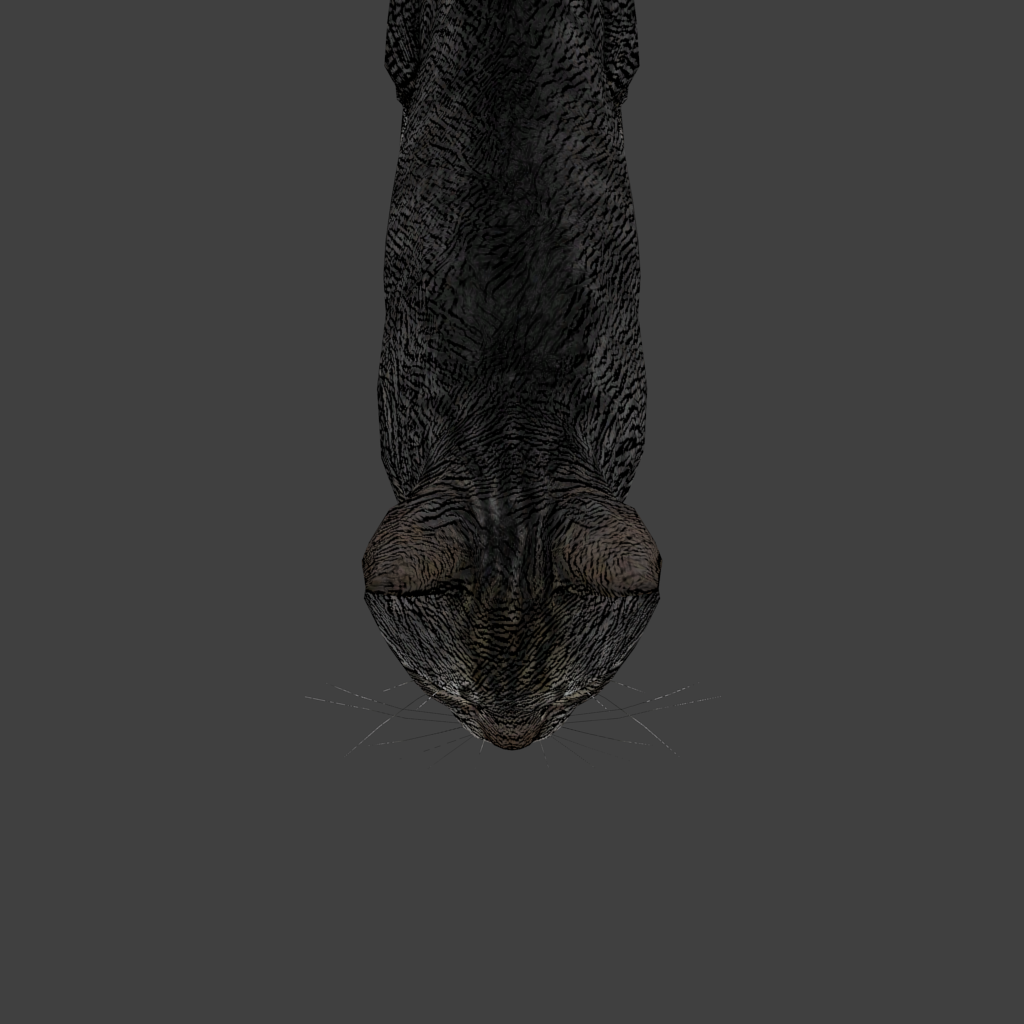Cat: (302, 0, 421, 773)
